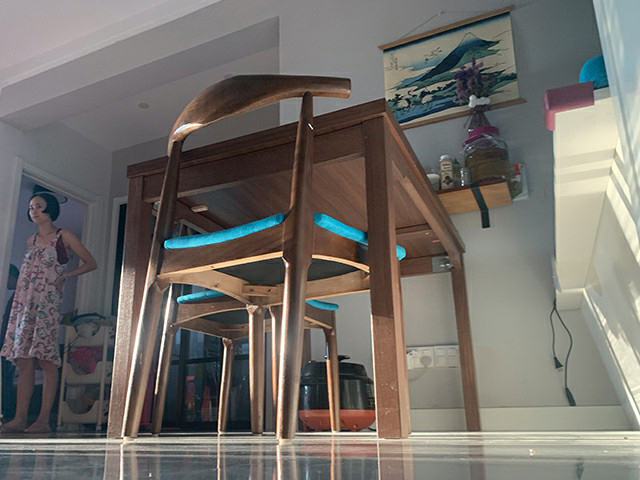stool: (119, 73, 407, 440), (149, 279, 342, 437)
table: (105, 96, 483, 440)
